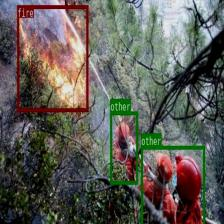fire: (17, 5, 88, 111)
